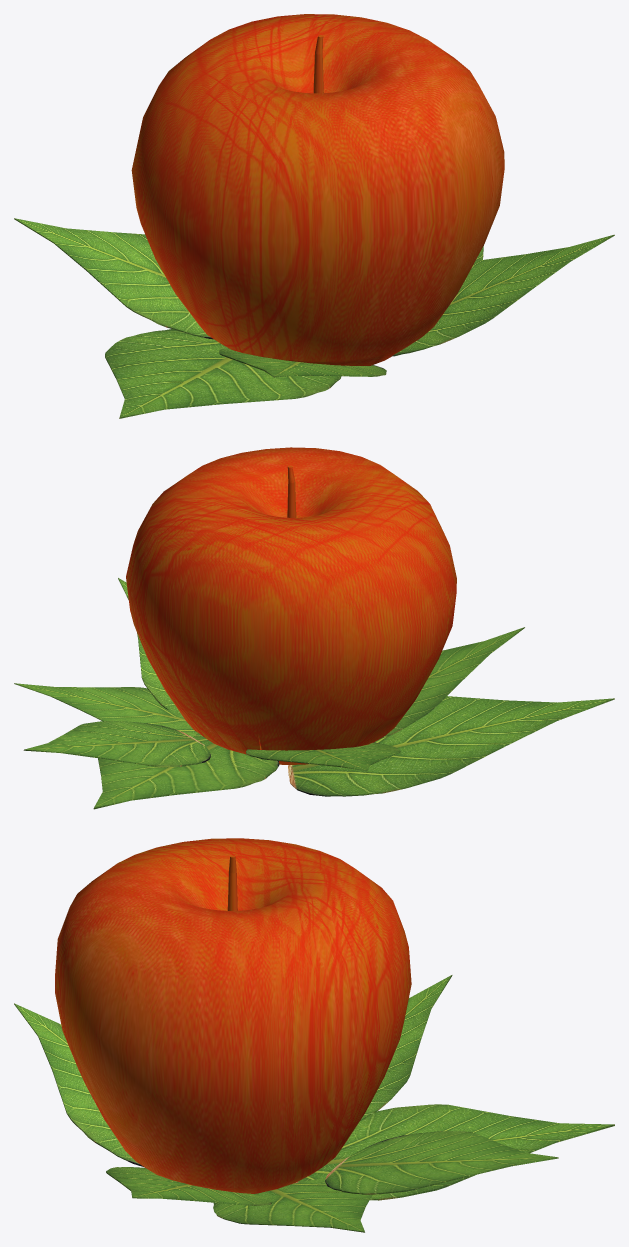
File: apple_pack.FBX
3 renders of one model, top to bottom at view 1: azimuth 30°, elevation 25°; view 2: azimuth 150°, elevation 25°; view 3: azimuth 270°, elevation 25°, orthographic. The views are drawn at different scales.
Parts seen in each view (by area): view 1: Sphere001; view 2: Sphere001; view 3: Sphere001.
Part boxes in pixels (x1,y1,x2,y2): Sphere001: (14,14,614,418); Sphere001: (14,447,614,809); Sphere001: (14,838,614,1232).
Bounding box in the file's own units: 103 × 59.09 × 101.
Materials: 2 (2 with a texture image).
